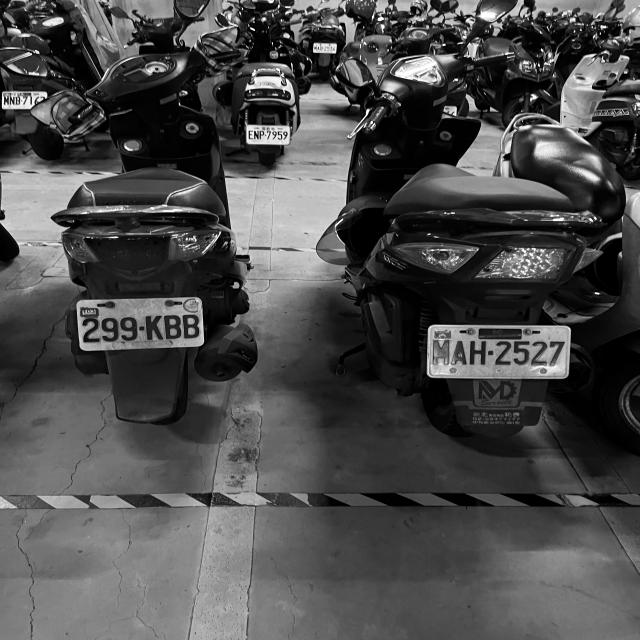-: (486, 348, 494, 356), (138, 326, 144, 332), (21, 100, 23, 102), (264, 134, 266, 136)
1: (30, 96, 32, 105)
2: (80, 317, 100, 343), (530, 339, 548, 367), (496, 340, 512, 365), (324, 46, 326, 51)
5: (512, 340, 530, 364), (277, 130, 283, 140), (327, 47, 330, 51)
6: (334, 46, 336, 52)
7: (550, 340, 566, 366), (266, 130, 272, 140), (23, 96, 27, 106)
9: (120, 316, 138, 341), (101, 318, 119, 342), (283, 132, 288, 140), (272, 131, 276, 139)
A: (452, 340, 466, 364), (318, 46, 320, 50)
B: (163, 314, 183, 340), (182, 315, 200, 339), (16, 96, 20, 106), (320, 46, 322, 50)
E: (248, 130, 254, 140)
H: (469, 341, 488, 365)
K: (144, 315, 164, 341)
M: (433, 338, 449, 365), (4, 96, 10, 106), (314, 46, 317, 50)
N: (253, 130, 260, 140), (10, 96, 16, 106)
P: (259, 130, 264, 140)
plate: (427, 326, 572, 378), (78, 300, 208, 346), (247, 124, 291, 144), (314, 44, 338, 54)
